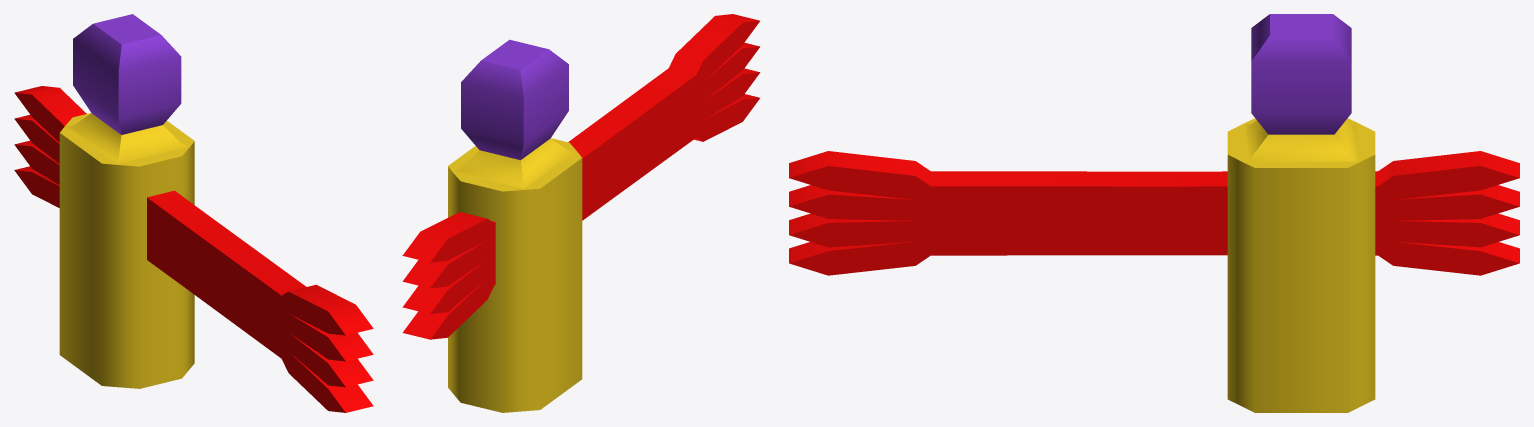
File: tuzak 3.fbx
The picture shows the model from 3 angles, left to right: view 1: azimuth 30°, elevation 25°; view 2: azimuth 150°, elevation 25°; view 3: azimuth 270°, elevation 25°; orthographic projection. The views are drawn at different scales.
Visible parts, largest first — view 1: pCube10, pCube1; view 2: pCube10, pCube1; view 3: pCube1, pCube10.
Part boxes in pixels (<box>): pCube10: <box>59,14,194,388</box>; pCube1: <box>14,86,373,412</box>; pCube10: <box>448,39,582,412</box>; pCube1: <box>402,14,760,339</box>; pCube1: <box>789,151,1519,275</box>; pCube10: <box>1227,14,1375,412</box>.
Size of the model in its own units: 1 by 3.41 by 6.22.
